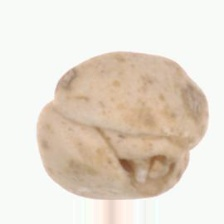L1: (112, 151, 182, 196)
L2: (35, 50, 209, 200)
